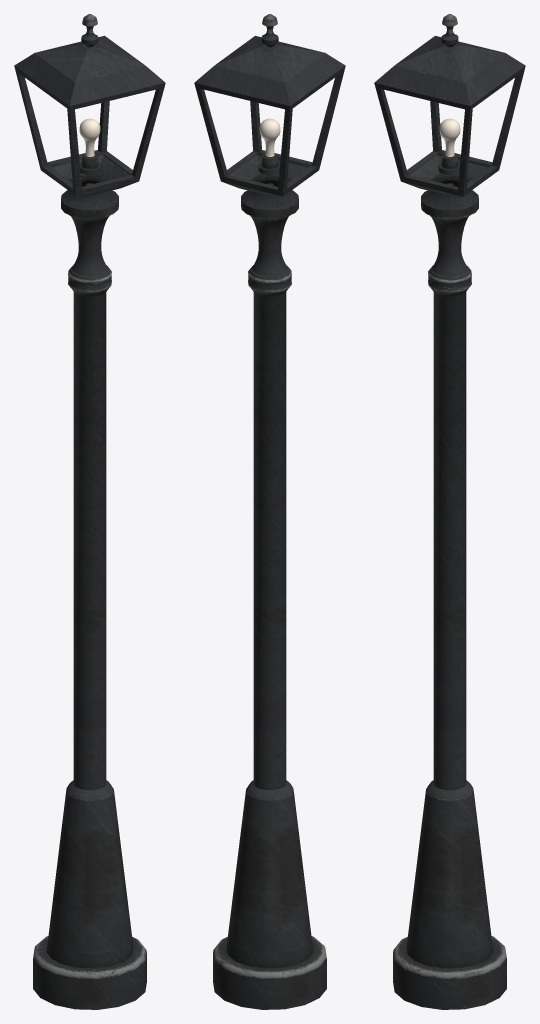
The model's file is lampPost.obj.
3 renders of one model, left to right at view 1: azimuth 30°, elevation 25°; view 2: azimuth 150°, elevation 25°; view 3: azimuth 330°, elevation 25°, orthographic.
Parts seen in each view (by area): view 1: post; view 2: post; view 3: post.
Part boxes in pixels (left/top/right/bottom): post: left=14, top=14, right=165, bottom=1009; post: left=194, top=14, right=345, bottom=1009; post: left=374, top=14, right=525, bottom=1009.
Size of the model in its own units: 0.4522 by 4.22 by 0.4522.
Materials: 1 (1 with a texture image).
